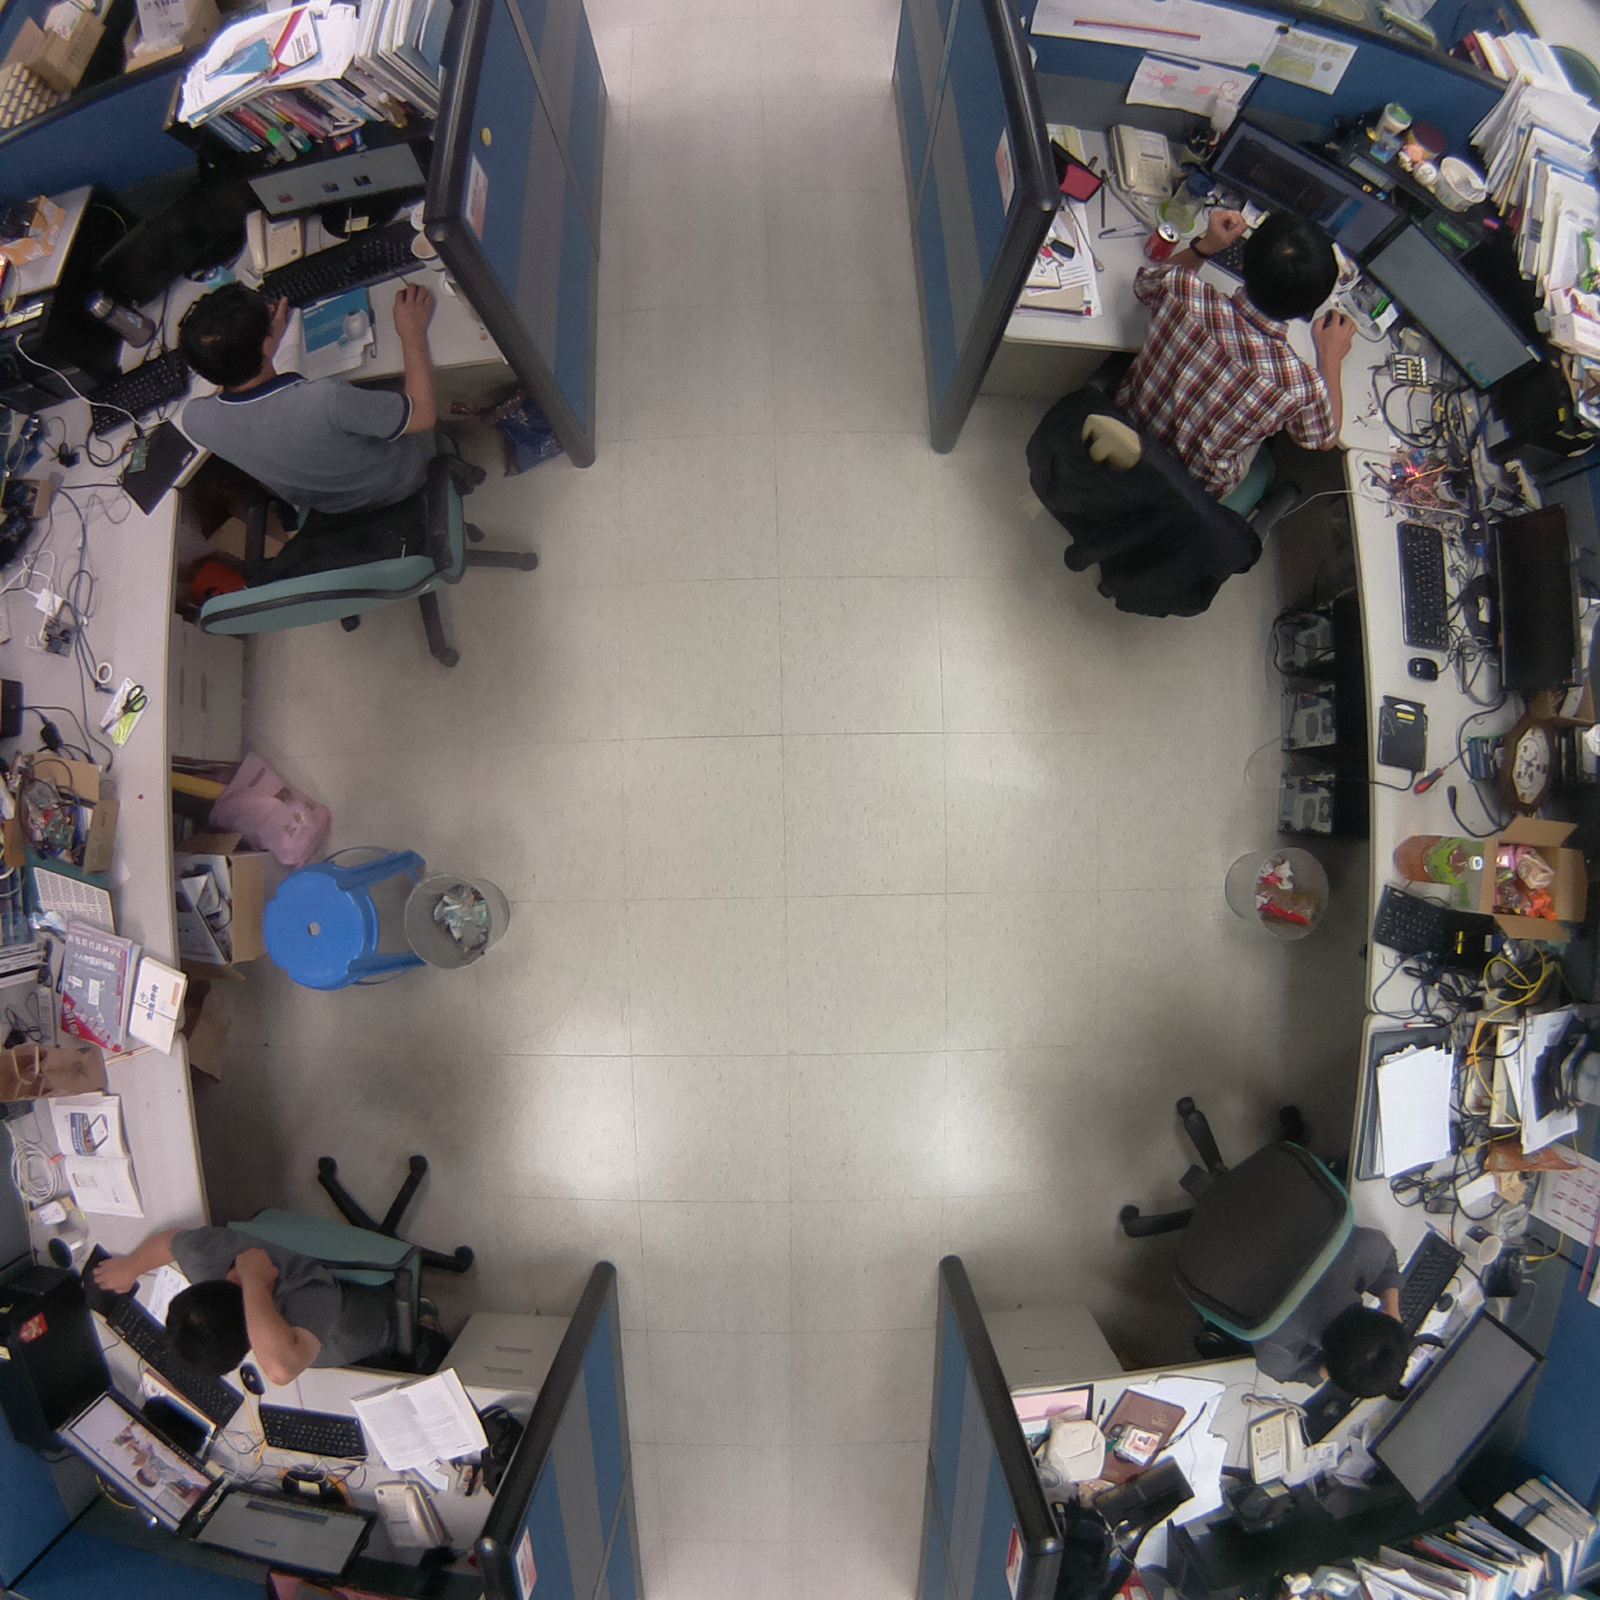head: (174, 276, 291, 388), (1245, 205, 1345, 322), (160, 1276, 258, 1388), (1310, 1305, 1416, 1405)
sitting: (155, 272, 565, 693), (1009, 212, 1362, 634), (1106, 1078, 1427, 1409), (116, 1140, 488, 1406)
